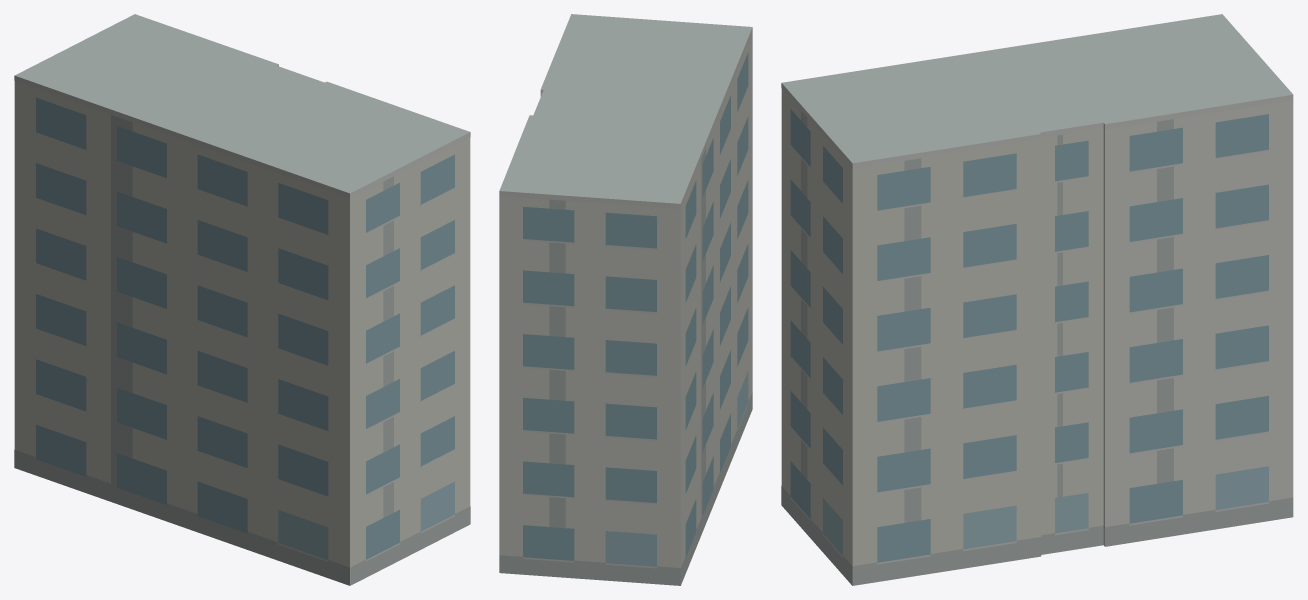
File: survey-upis-32866044.glb
3 renders of one model, left to right at view 1: azimuth 30°, elevation 25°; view 2: azimuth 150°, elevation 25°; view 3: azimuth 270°, elevation 25°, orthographic. The views are drawn at different scales.
Visible parts, largest first — view 1: survey-upis-32866044.tmp; view 2: survey-upis-32866044.tmp; view 3: survey-upis-32866044.tmp.
Boxes of the visible parts, x1,y1,x2,y2 form: survey-upis-32866044.tmp: [14, 14, 470, 585]; survey-upis-32866044.tmp: [499, 14, 752, 585]; survey-upis-32866044.tmp: [781, 14, 1293, 585].
Size of the model in its own units: 13.88 by 18.3 by 20.1.
